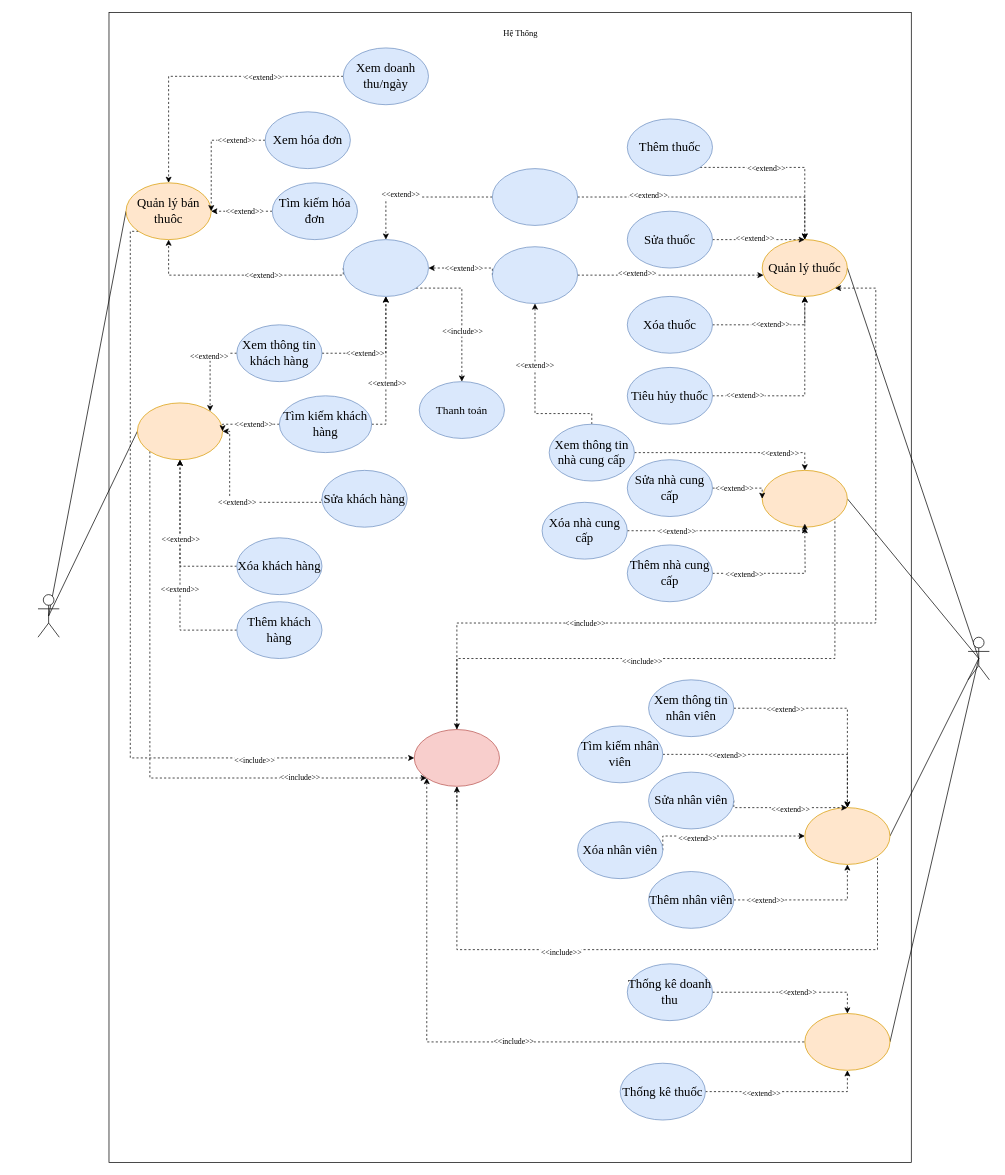
Some shapes in this 1005 by 1175 pixel diagram are drawn without their labels. The centre of each missing label's shape, as x and y in pixels:
Nhân Viên Bán Hàng: the point at 48,615
Quản lý: the point at 978,658
Quản lý khách hàng: the point at 180,431
Quản lý nhà cung cấp: the point at 804,498
Quản lý nhân viên: the point at 847,835
Thống kê: the point at 847,1041
Tìm kiếm thuốc: the point at 535,196
Tạo hóa đơn: the point at 385,267
Xem thuốc: the point at 535,275
Đăng nhập: the point at 456,757
